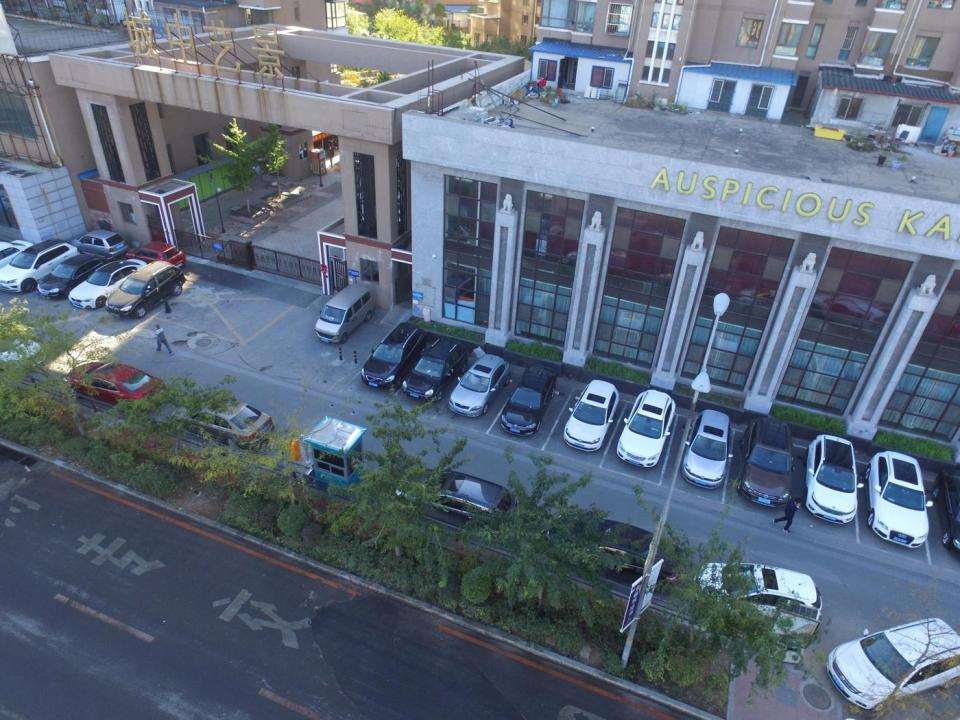car: (827, 618, 960, 712), (544, 509, 690, 590), (696, 558, 826, 634), (395, 466, 518, 538), (865, 450, 932, 550), (172, 391, 277, 450), (60, 358, 164, 412), (611, 388, 677, 468), (803, 435, 860, 526), (736, 415, 790, 505), (103, 261, 184, 320), (359, 319, 426, 389), (403, 332, 470, 402), (0, 237, 82, 293), (680, 408, 736, 490), (66, 257, 148, 309), (499, 364, 558, 436), (449, 352, 512, 418), (562, 378, 618, 451), (36, 247, 116, 297), (126, 238, 187, 271), (68, 226, 132, 257)
van: (314, 282, 372, 345)
